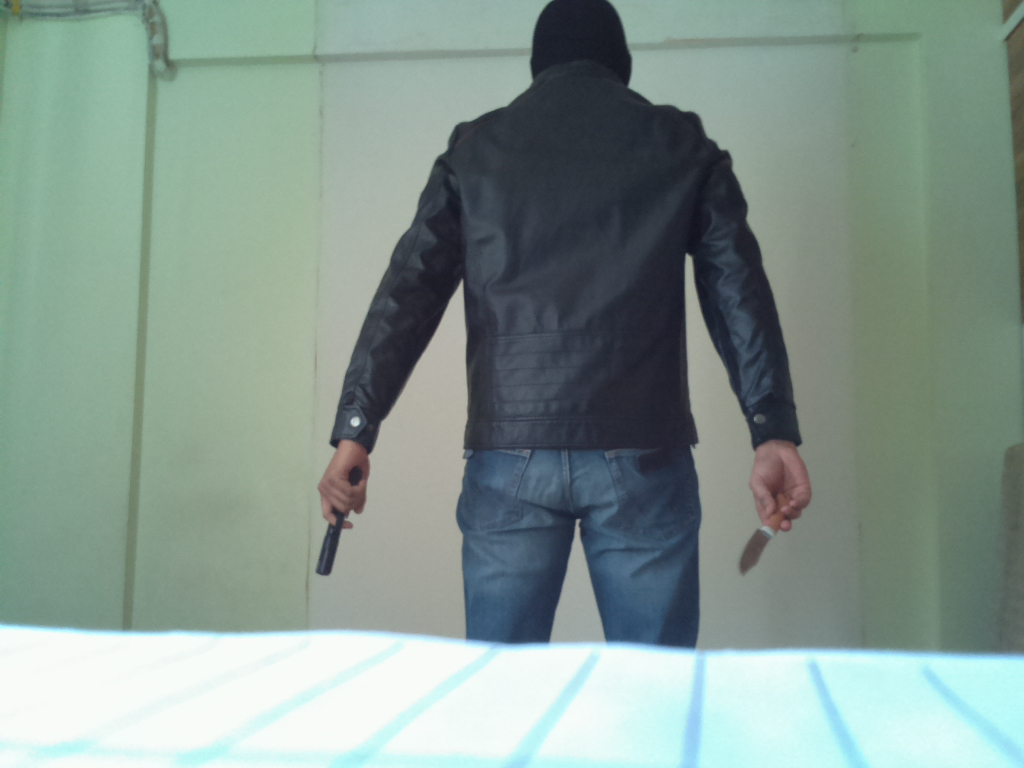gun: (315, 465, 363, 577)
knife: (738, 500, 800, 580)
